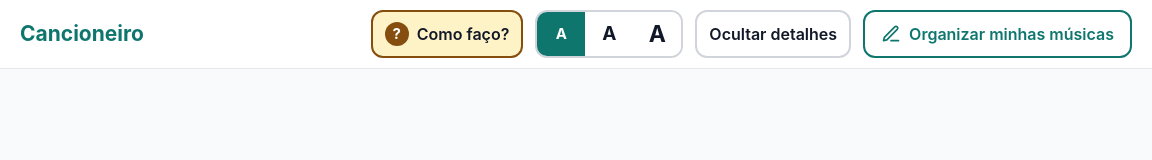
Test: TopBar (V15) — o topo da tela › escolher um tamanho guarda a escolha e aumenta a tela inteira
Later steps or results of the test are not shown.
Click the button named "Letra muito grande" at (657, 34), box [633,12,681,56]
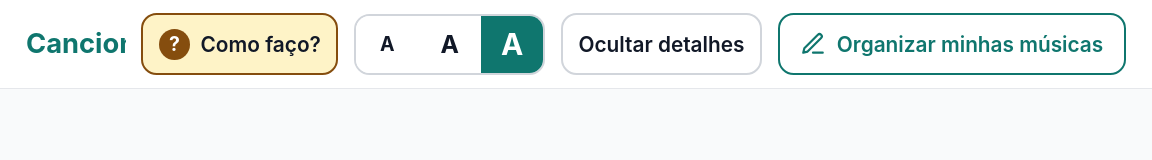
Result: the button named "Letra muito grande" is pressed at [481,16,543,73]
